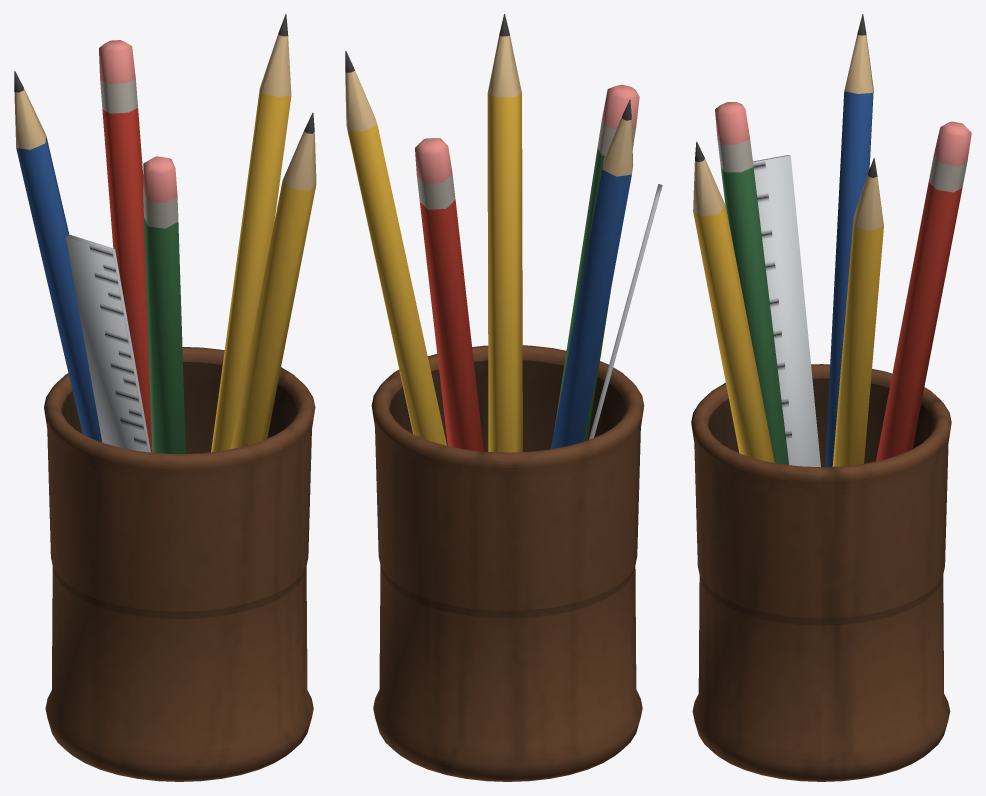
The model's file is desk-pencil-cup.glb.
The picture shows the model from 3 angles, left to right: view 1: azimuth 30°, elevation 25°; view 2: azimuth 150°, elevation 25°; view 3: azimuth 270°, elevation 25°; orthographic projection. The views are drawn at different scales.
Parts seen in each view (by area): view 1: desk-pencil-cup; view 2: desk-pencil-cup; view 3: desk-pencil-cup.
Part boxes in pixels (x1,y1,x2,y2): desk-pencil-cup: [14, 14, 316, 781]; desk-pencil-cup: [345, 14, 662, 781]; desk-pencil-cup: [691, 14, 971, 781].
Bounding box in the file's own units: 35.56 × 82.5 × 32.25.
Materials: 1 (1 with a texture image).
